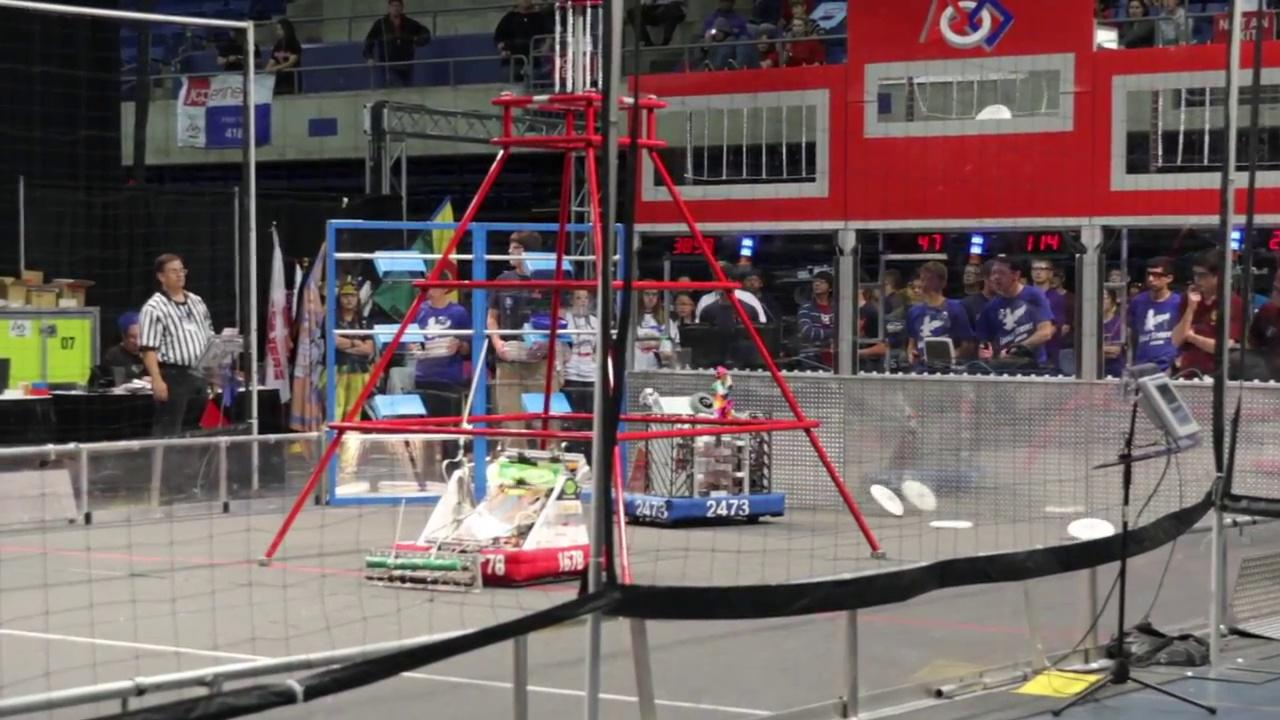robot: (363, 447, 605, 595), (614, 388, 791, 535)
